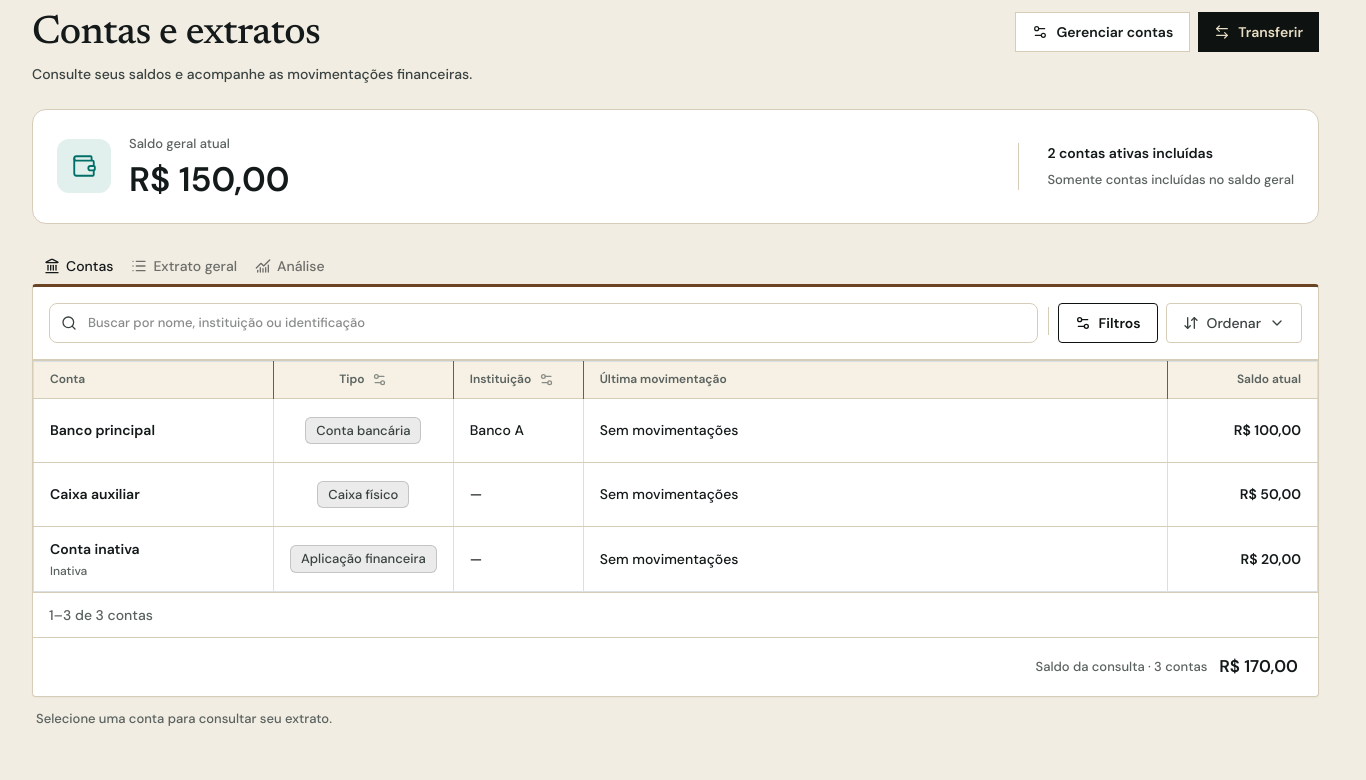
mantém o saldo geral independente da consulta e preserva busca ao alternar abas
The width and height of the screenshot is (1366, 780).
Expected: the element "Saldo geral atual" shows "150,00", [129, 156, 289, 202]
Type "Caixa" into the search field named "Buscar conta" at (543, 323), box [49, 303, 1038, 343]
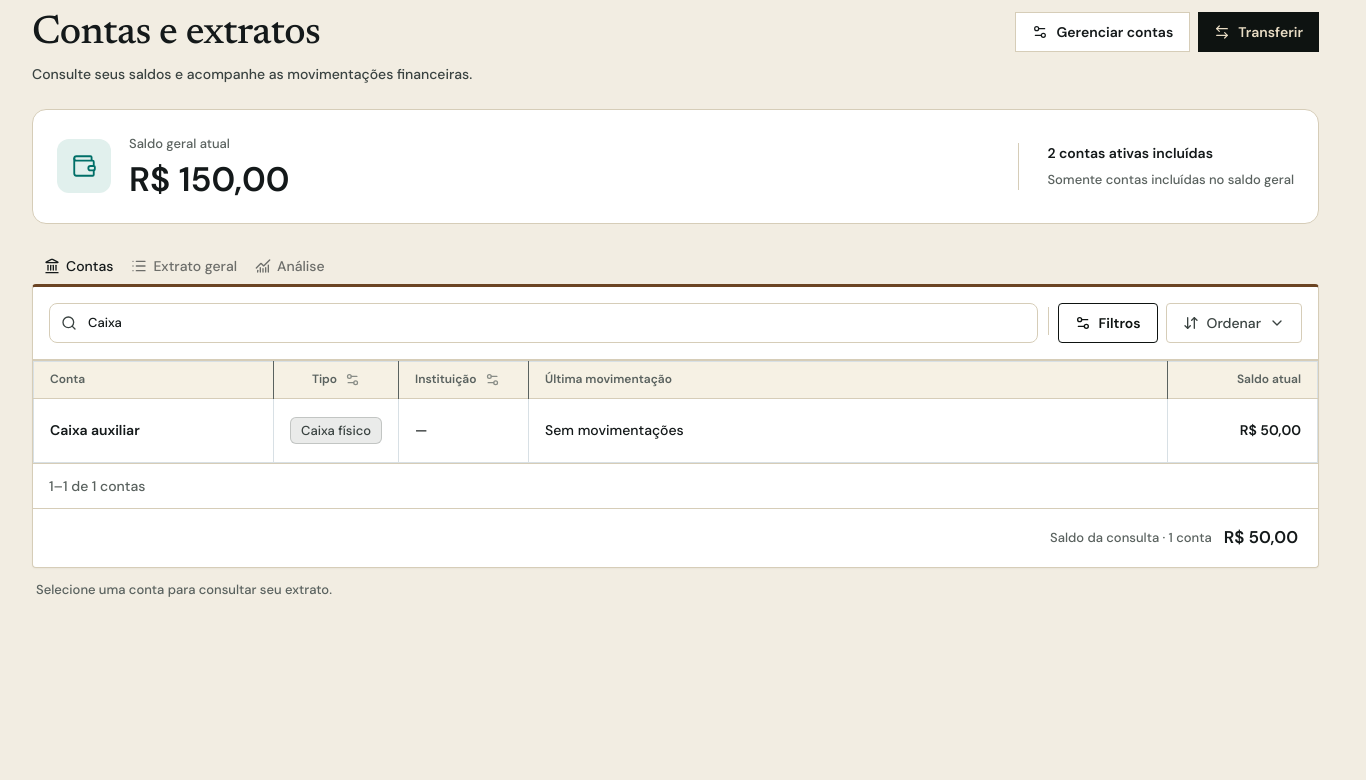
Expected: the element "Saldo geral atual" shows "150,00", [129, 156, 289, 202]
Press the mouse on the tab "Extrato geral" at (184, 266), box [122, 251, 246, 280]
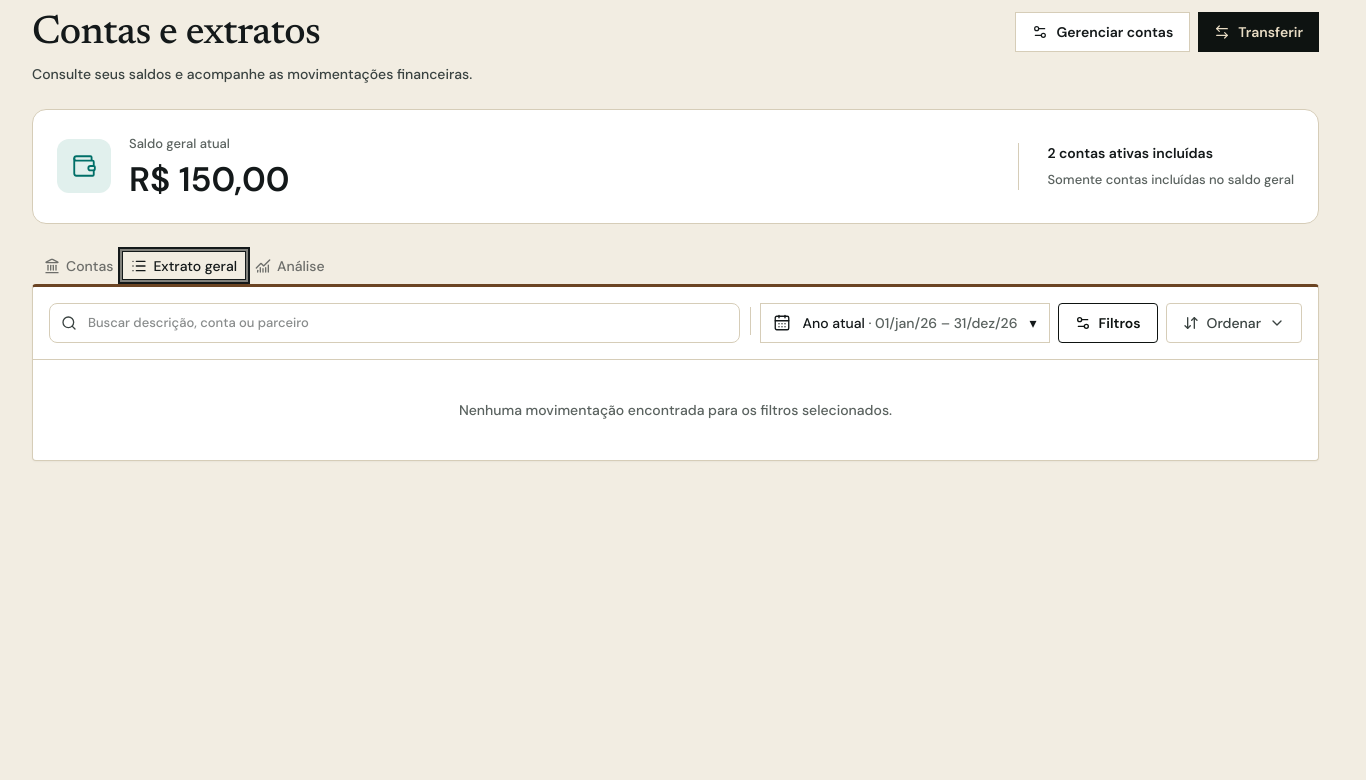
Press the mouse on the tab "Contas" at (79, 266), box [35, 251, 122, 280]
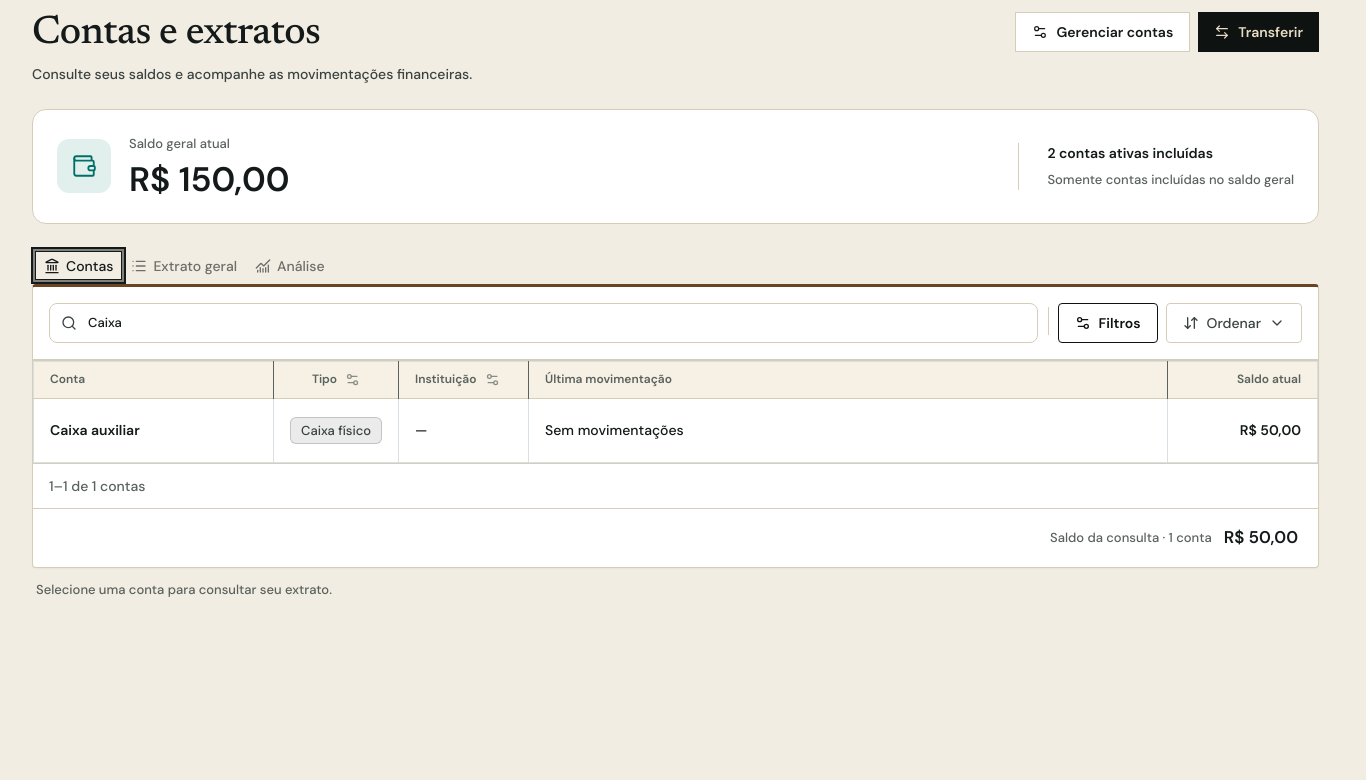
Now the text "Saldo da consulta · 1 conta" is shown, box [1050, 528, 1212, 548]
